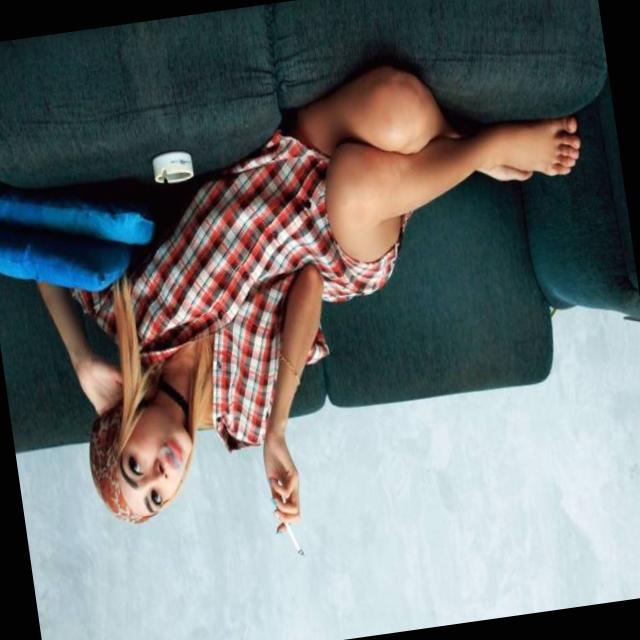cigarette: (284, 522, 306, 559)
